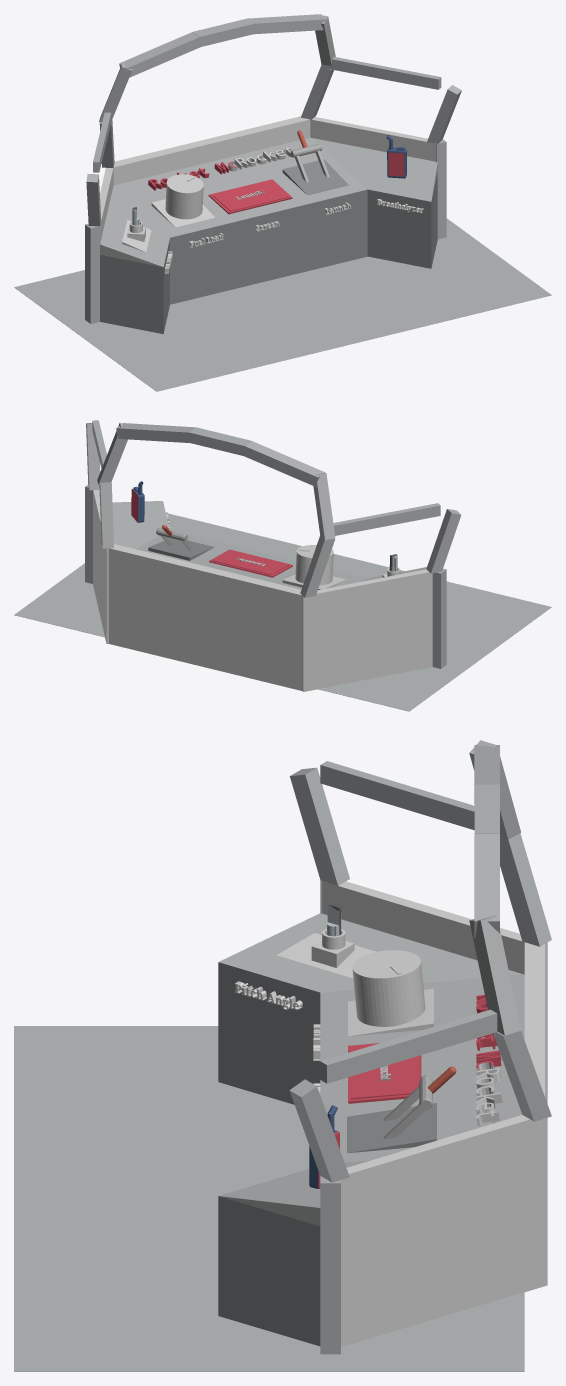
File: rocket_ship_interior.glb
3 views of the same model, one above another, from view 1: azimuth 30°, elevation 25°; view 2: azimuth 150°, elevation 25°; view 3: azimuth 270°, elevation 25° (orthographic). The views are drawn at different scales.
Parts seen in each view (by area): view 1: Mesh_Mesh_head_geo.001_lambert2SG.001; view 2: Mesh_Mesh_head_geo.001_lambert2SG.001; view 3: Mesh_Mesh_head_geo.001_lambert2SG.001.
Part boxes in pixels (bbox=[...]): Mesh_Mesh_head_geo.001_lambert2SG.001: bbox=[14, 14, 551, 391]; Mesh_Mesh_head_geo.001_lambert2SG.001: bbox=[14, 420, 551, 711]; Mesh_Mesh_head_geo.001_lambert2SG.001: bbox=[14, 740, 551, 1371].
Size of the model in its own units: 80 by 42.3 by 52.67.
